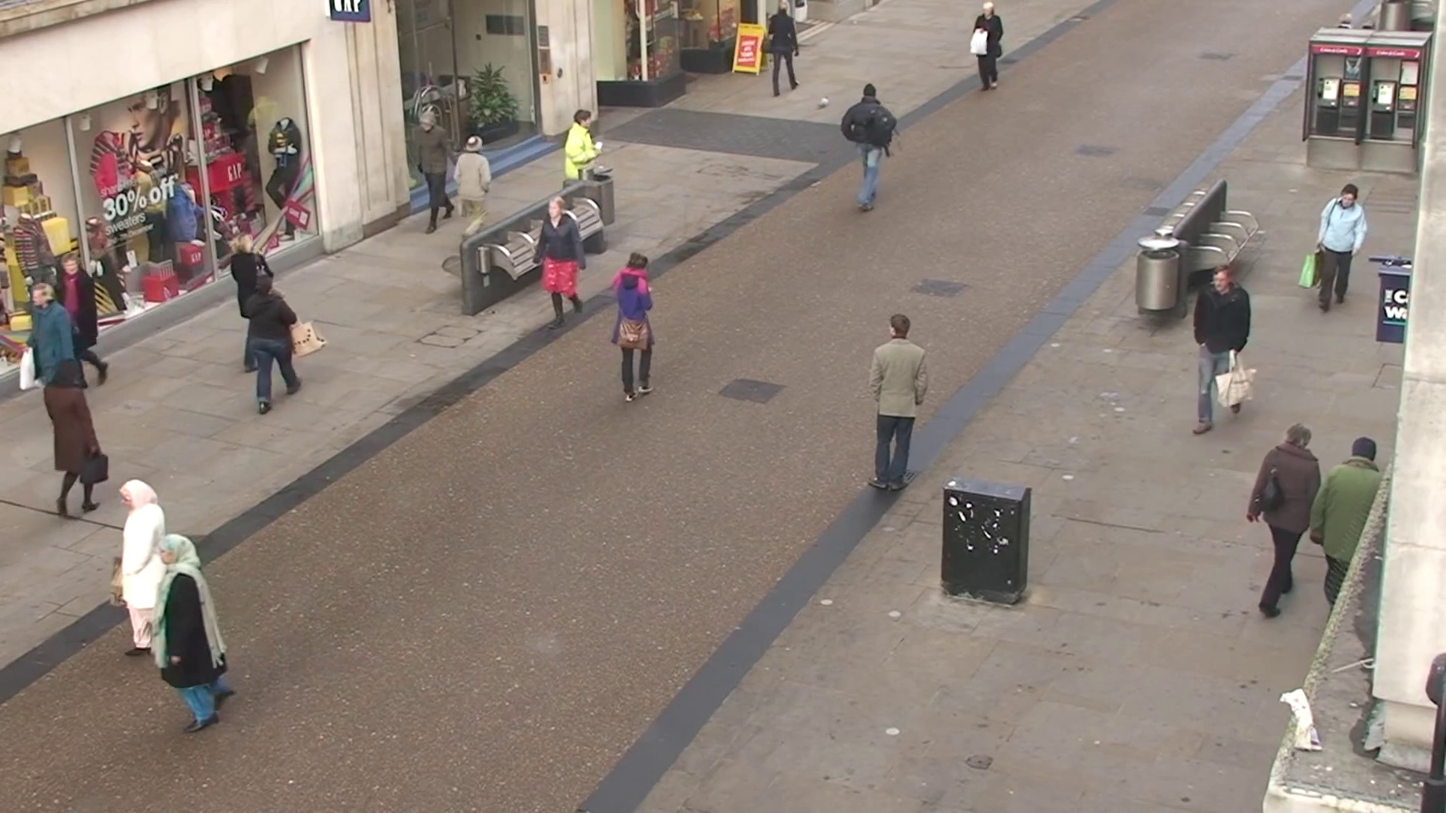person: (23, 279, 111, 519), (148, 534, 231, 733), (1246, 423, 1322, 617), (1310, 434, 1384, 609), (868, 314, 929, 492), (1192, 266, 1254, 430), (237, 259, 302, 415), (114, 480, 169, 654), (840, 82, 900, 212), (1313, 180, 1370, 312), (536, 195, 587, 324), (612, 252, 656, 400), (452, 132, 494, 233), (766, 2, 801, 95), (971, 7, 1004, 93), (563, 108, 599, 184)
